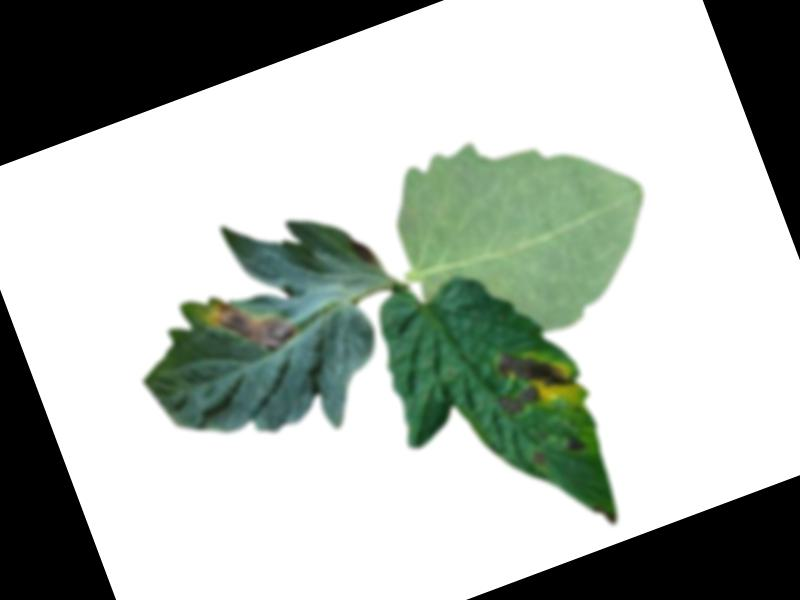Early_blight: (199, 274, 302, 370), (481, 330, 578, 420), (591, 497, 621, 530), (563, 428, 591, 456), (529, 447, 548, 465)
healthy: (365, 86, 685, 375)
